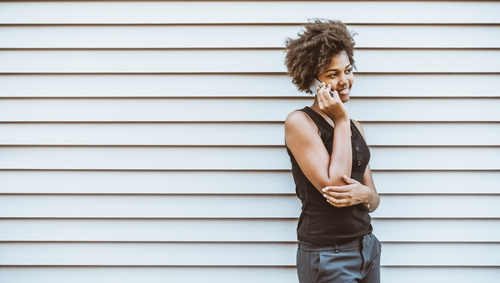phone: (309, 78, 337, 103)
talk: (311, 60, 354, 121)
